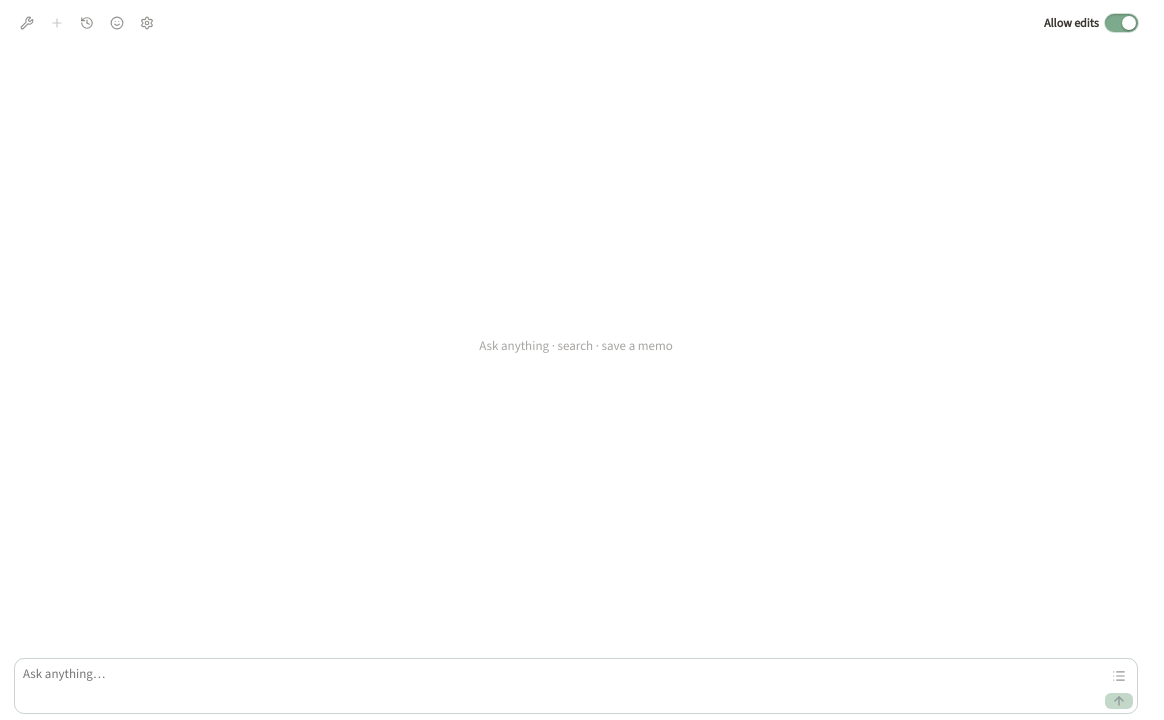
Test: SidebarChat › stop waiting clears pending and ignores late setItems from that send
In the text box with placeholder "Ask anything…": [560, 686] box [15,659,1105,713], type "hi"
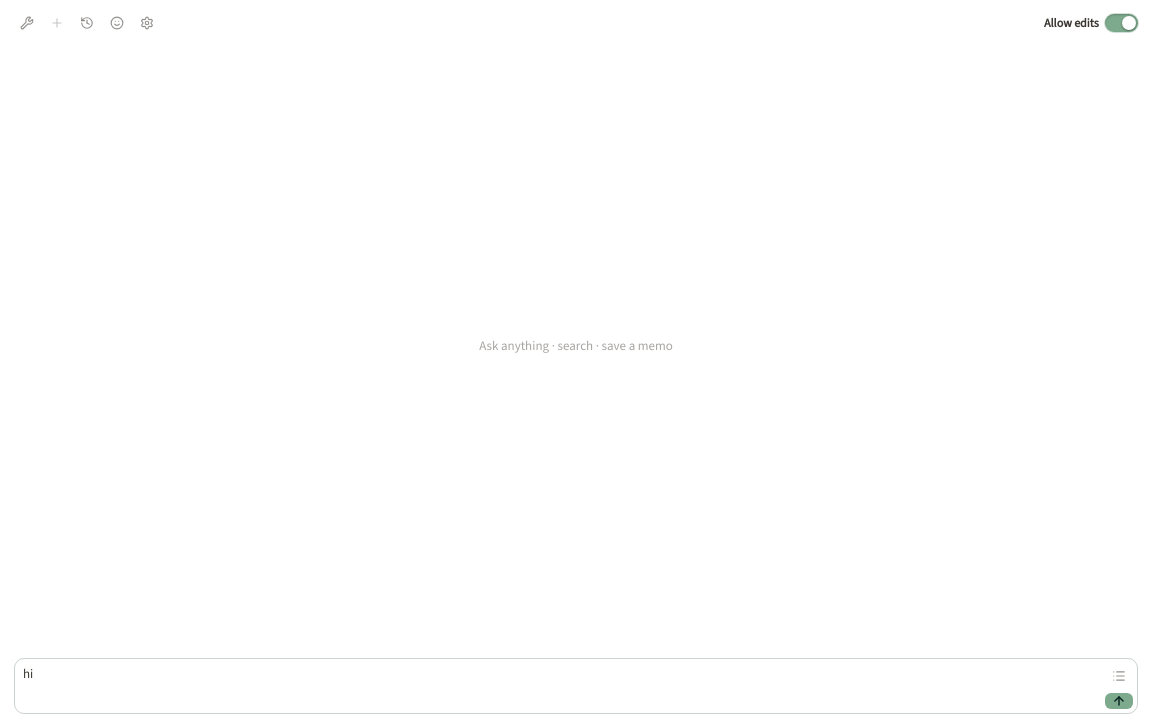
Press Enter in the text box with placeholder "Ask anything…", box [15,659,1105,713]
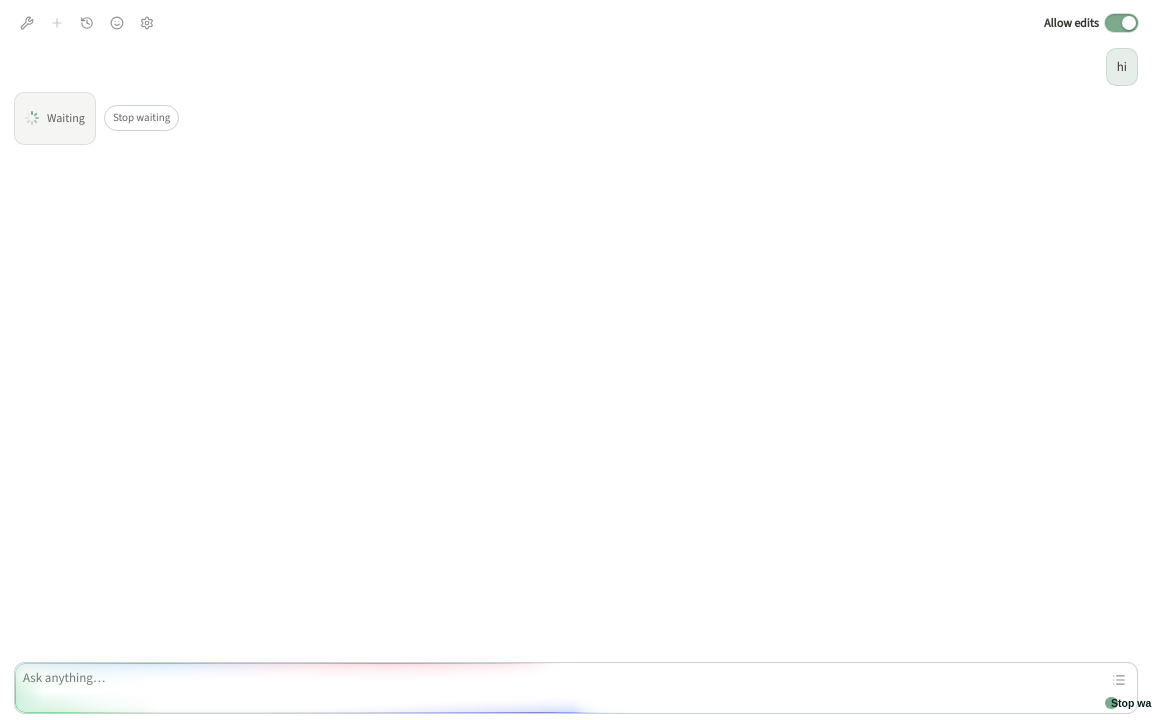
Now the button with test id "chat-stop-wait" is shown
Click the button with test id "chat-stop-wait": [142, 118] box [104,105,179,131]
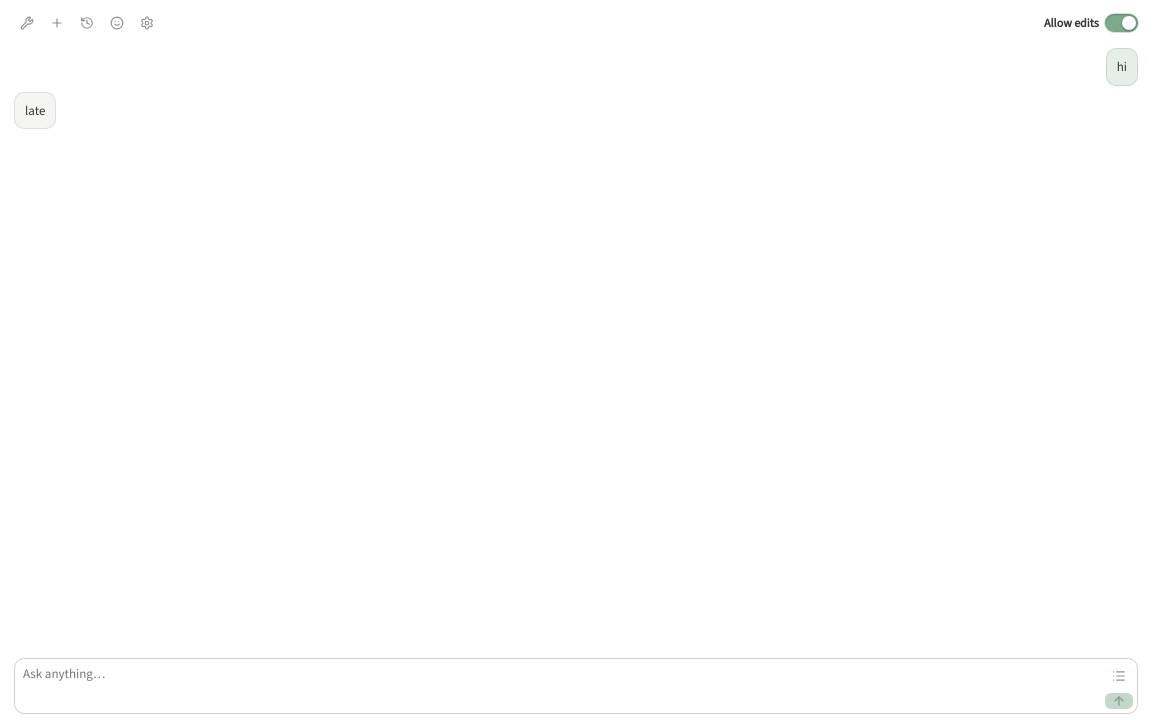
Now the button with test id "chat-stop-wait" is gone
Now the text "late" is shown, box [25,102,45,118]
